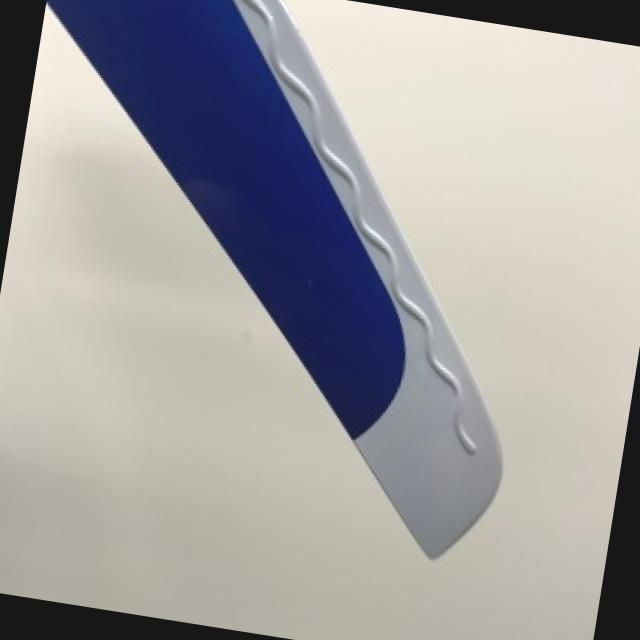healthy: (50, 0, 503, 556)
